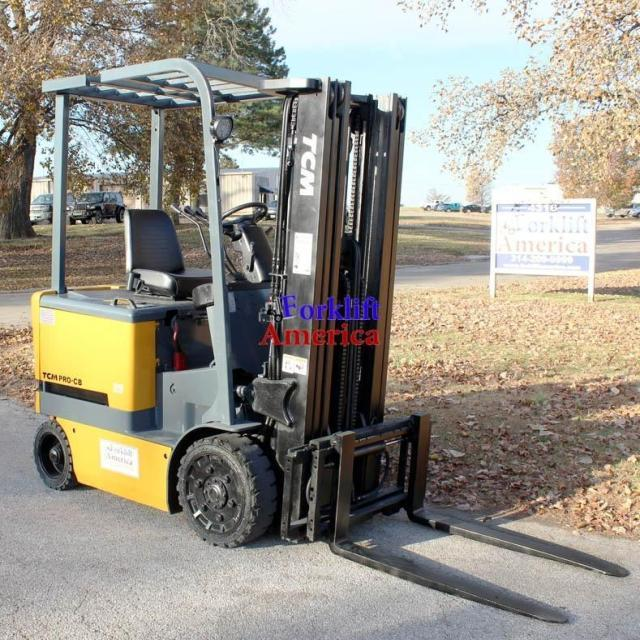forklift: (22, 49, 436, 568)
